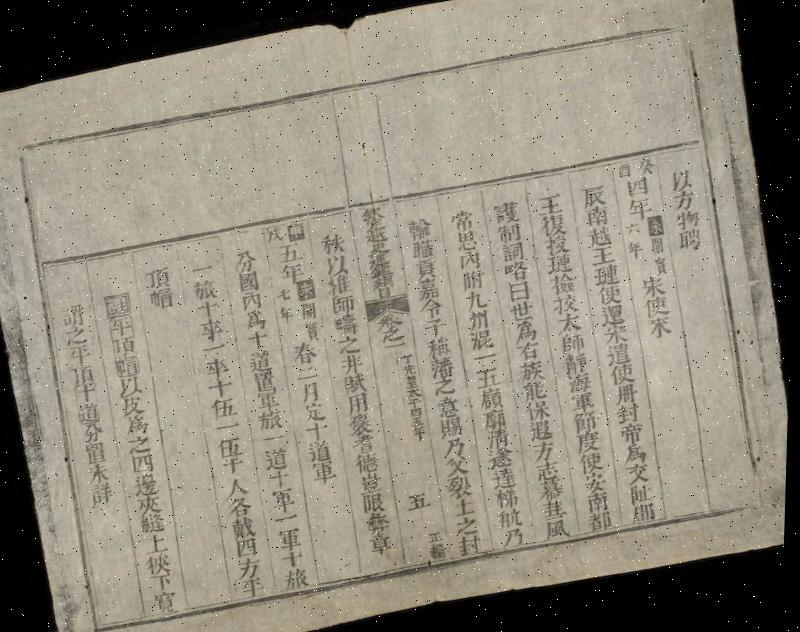c: (67, 361, 102, 394), (450, 215, 482, 250), (101, 288, 136, 320), (270, 484, 302, 516), (490, 196, 524, 226), (276, 523, 308, 554), (578, 180, 612, 209), (196, 315, 230, 344), (404, 213, 438, 242), (86, 479, 120, 508), (585, 504, 619, 532), (210, 394, 244, 422), (476, 384, 510, 412), (215, 432, 249, 460), (228, 512, 262, 540), (445, 472, 479, 500), (130, 470, 164, 498), (353, 445, 385, 474), (367, 528, 400, 556), (309, 458, 342, 486), (262, 444, 295, 472), (456, 528, 489, 556), (290, 338, 323, 366), (146, 285, 180, 312), (255, 406, 289, 433), (472, 363, 506, 390), (282, 564, 316, 591), (443, 449, 475, 477), (404, 485, 436, 513), (666, 164, 698, 192), (56, 300, 88, 328), (468, 326, 500, 354), (190, 274, 222, 302), (82, 438, 114, 466), (369, 272, 401, 300), (318, 228, 350, 256), (570, 407, 603, 434), (624, 194, 657, 221), (536, 476, 570, 502), (546, 270, 580, 296), (142, 264, 176, 290), (486, 444, 520, 470), (538, 212, 572, 238), (534, 190, 568, 216), (590, 261, 624, 287), (511, 316, 542, 344), (562, 349, 594, 376), (306, 437, 338, 464), (530, 437, 562, 464), (574, 428, 606, 455), (638, 272, 670, 299), (65, 340, 98, 366), (202, 354, 235, 380), (424, 334, 457, 360), (138, 510, 171, 536), (145, 550, 178, 576), (152, 588, 185, 614), (361, 487, 392, 514), (542, 514, 574, 540), (584, 488, 616, 514), (364, 509, 396, 535), (581, 469, 613, 495), (620, 439, 652, 465), (346, 410, 378, 436), (578, 448, 610, 474), (628, 479, 660, 505), (112, 352, 144, 378), (630, 499, 662, 525), (624, 460, 656, 486), (222, 473, 254, 499), (236, 554, 268, 580), (226, 493, 258, 519), (594, 280, 626, 306), (597, 302, 629, 328), (428, 354, 460, 380), (645, 314, 677, 340), (458, 266, 490, 292), (527, 416, 559, 442), (558, 329, 590, 355), (604, 340, 636, 366), (518, 358, 550, 384), (524, 396, 556, 422), (496, 504, 528, 530), (674, 226, 706, 252), (490, 464, 522, 490), (533, 456, 566, 481), (493, 485, 526, 510), (550, 291, 584, 315), (231, 246, 261, 273), (455, 246, 486, 272), (357, 468, 388, 494), (251, 366, 282, 392), (438, 414, 469, 440), (618, 419, 649, 445), (611, 380, 642, 406), (246, 347, 277, 373), (329, 290, 360, 316), (341, 370, 372, 396), (498, 238, 529, 264), (540, 496, 572, 521), (608, 360, 640, 385), (110, 333, 142, 358), (116, 372, 148, 397), (642, 294, 674, 319), (520, 377, 552, 402), (366, 253, 398, 278), (582, 203, 614, 228), (135, 492, 168, 516), (206, 374, 239, 398), (554, 310, 587, 334), (544, 251, 577, 275), (541, 232, 574, 256), (442, 434, 472, 460), (298, 378, 328, 404), (85, 460, 115, 486), (144, 530, 174, 556), (622, 174, 653, 199), (234, 533, 265, 558), (332, 311, 363, 336), (669, 187, 700, 212), (338, 350, 369, 375), (501, 258, 532, 283), (481, 406, 512, 431), (412, 255, 443, 280), (453, 512, 485, 536), (275, 240, 307, 264), (565, 370, 597, 394), (494, 220, 526, 244), (484, 426, 516, 450), (334, 332, 366, 356), (408, 236, 440, 260), (505, 278, 537, 302), (600, 322, 632, 346), (80, 418, 109, 444), (254, 386, 284, 411), (76, 399, 106, 424), (108, 313, 138, 338), (130, 450, 160, 475), (326, 271, 356, 296), (120, 391, 150, 416), (344, 390, 374, 415), (415, 276, 445, 301), (614, 400, 645, 424), (508, 298, 539, 322), (585, 224, 616, 248), (461, 288, 492, 312), (123, 412, 154, 436), (673, 206, 704, 230), (450, 206, 478, 232), (219, 454, 252, 476), (374, 309, 407, 331), (302, 400, 332, 424), (418, 296, 448, 320), (240, 574, 270, 598), (62, 324, 92, 348), (421, 314, 451, 338), (434, 394, 464, 418), (515, 338, 545, 362), (568, 389, 599, 412), (267, 467, 298, 490), (242, 307, 270, 332), (351, 430, 380, 454), (127, 432, 156, 456), (502, 524, 531, 548), (323, 252, 352, 276), (304, 418, 334, 441), (452, 495, 482, 518), (278, 260, 309, 282), (588, 244, 619, 266), (431, 375, 462, 397), (294, 276, 320, 302), (466, 308, 494, 332), (150, 570, 180, 592), (194, 298, 224, 320), (236, 269, 263, 293), (245, 328, 273, 351), (188, 258, 217, 278), (284, 219, 308, 243), (302, 319, 326, 343), (239, 289, 266, 310), (74, 382, 102, 402), (282, 549, 310, 569), (645, 213, 668, 237), (428, 540, 453, 562), (214, 418, 244, 436), (361, 202, 388, 222), (275, 509, 303, 528), (294, 363, 322, 382), (380, 326, 408, 345), (650, 252, 672, 276), (262, 223, 286, 245), (276, 302, 298, 326), (262, 430, 290, 448), (366, 240, 393, 258), (300, 299, 322, 321), (632, 157, 656, 177), (363, 228, 391, 245), (471, 350, 500, 366), (626, 237, 647, 259), (202, 340, 230, 356), (362, 217, 389, 233), (648, 235, 668, 255), (426, 526, 448, 544), (614, 161, 634, 180), (380, 339, 411, 351), (624, 220, 644, 238), (276, 284, 296, 302), (404, 374, 422, 390), (399, 349, 416, 365), (414, 424, 430, 441), (402, 362, 420, 376), (406, 386, 425, 399), (407, 396, 426, 409), (410, 406, 426, 418), (412, 415, 427, 427)
